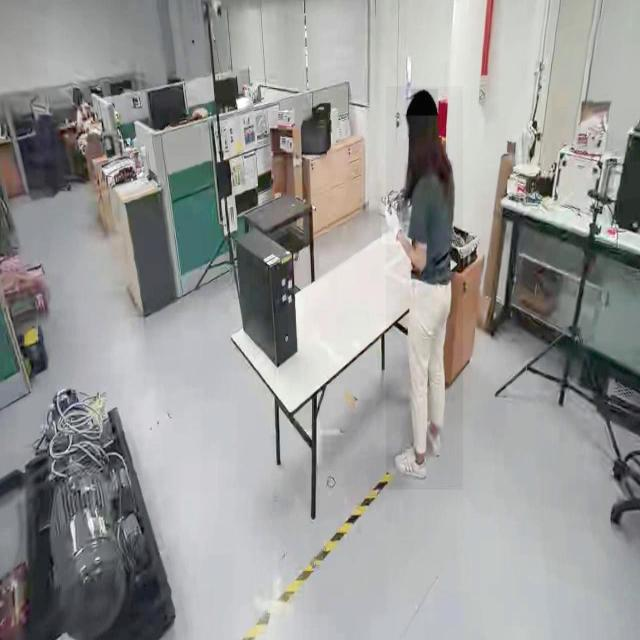hand_glove: (381, 199, 401, 245)
head_nohelmet: (406, 89, 438, 116)
person: (385, 86, 463, 491)
shoes: (392, 443, 428, 484), (424, 413, 444, 459)
